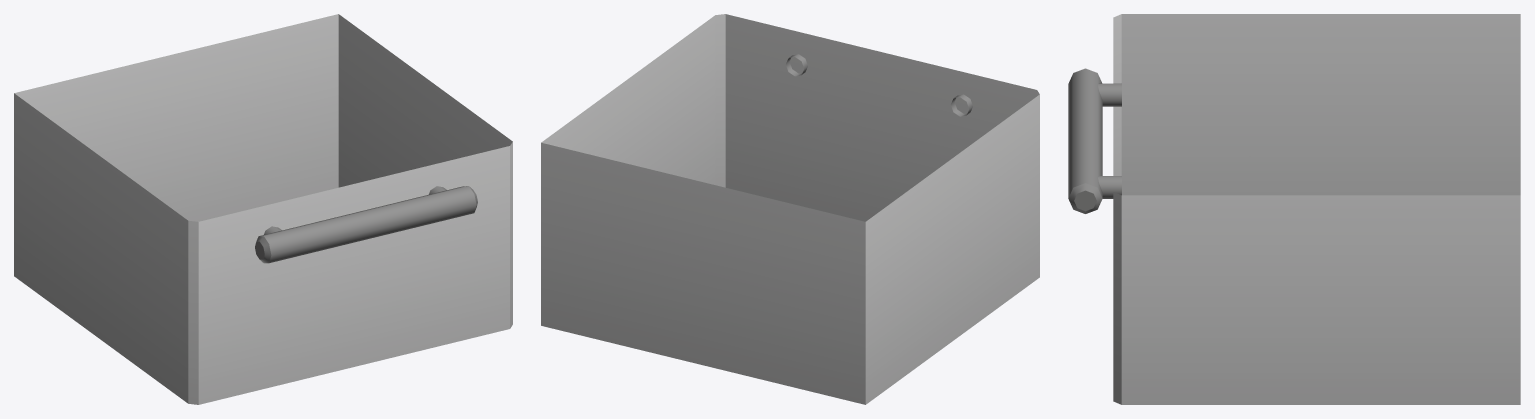
Rendered from Counter_01_v03_C02.fbx.
3 views of the same model, side by side, from view 1: azimuth 30°, elevation 25°; view 2: azimuth 150°, elevation 25°; view 3: azimuth 270°, elevation 25° (orthographic). The views are drawn at different scales.
Visible parts, largest first — view 1: Counter_01_v03_C02; view 2: Counter_01_v03_C02; view 3: Counter_01_v03_C02.
Boxes of the visible parts, <box> form: Counter_01_v03_C02: <box>14,14,512,404</box>; Counter_01_v03_C02: <box>541,14,1039,404</box>; Counter_01_v03_C02: <box>1068,14,1520,404</box>.
Size of the model in its own units: 100 by 53.91 by 105.
